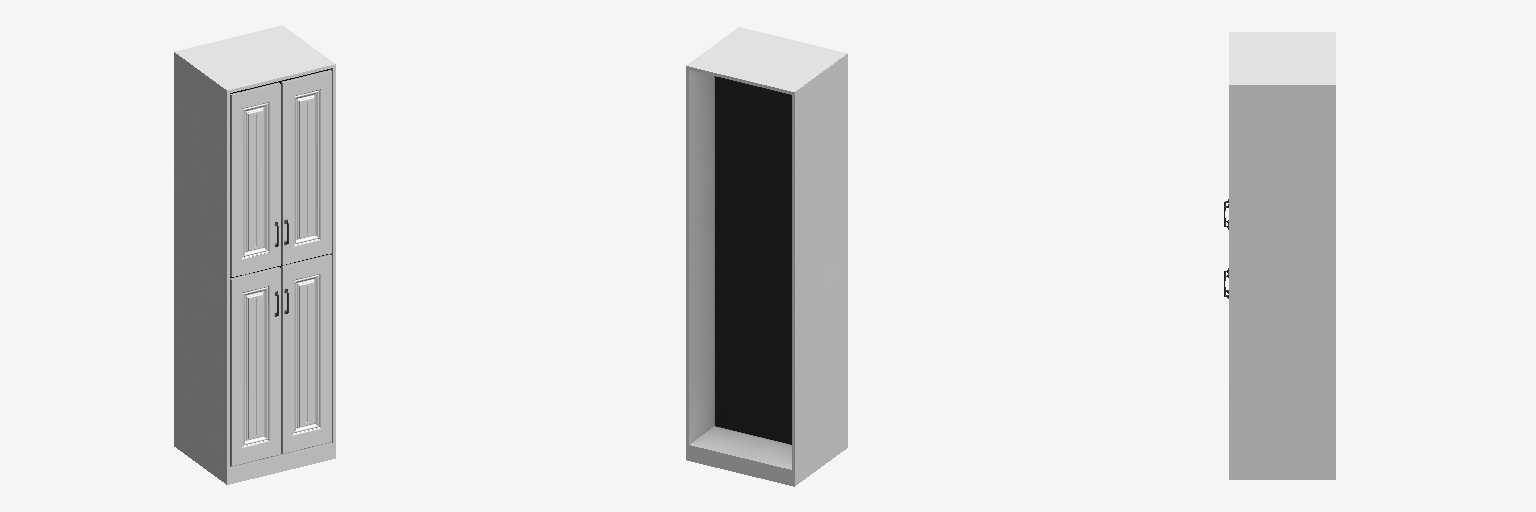
3 renders of one model, left to right at view 1: azimuth 30°, elevation 25°; view 2: azimuth 150°, elevation 25°; view 3: azimuth 270°, elevation 25°, orthographic.
Visible parts, largest first — view 1: solid_001; view 2: solid_001, solid_002; view 3: solid_001.
Boxes of the visible parts, x1,y1,x2,y2 form: solid_001: [174, 25, 335, 484]; solid_001: [686, 27, 847, 486]; solid_002: [715, 76, 791, 444]; solid_001: [1229, 32, 1335, 479].
Size of the model in its own units: 0.7566 by 2.45 by 0.675.
Materials: 1 (1 with a texture image).